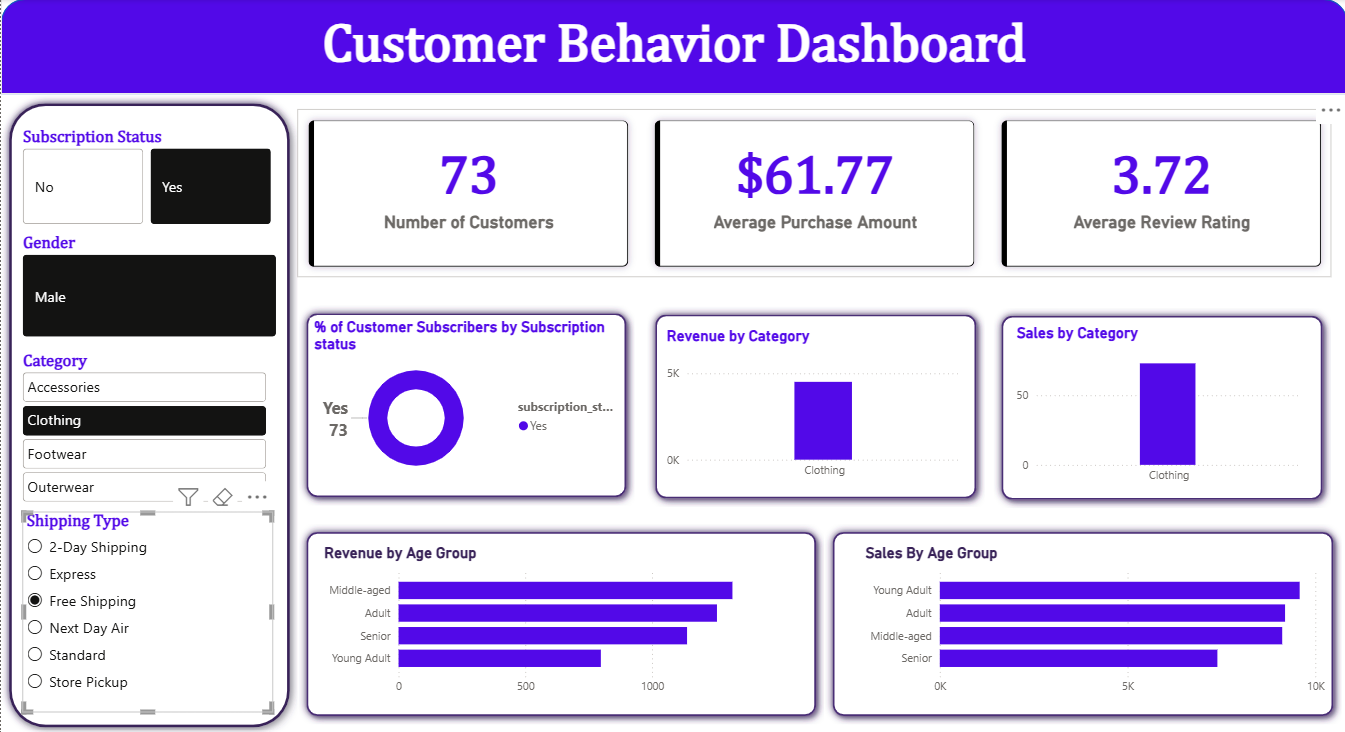

Layout of this report page (visuals, bound fields, positions):
{"tool":"powerbi","page":{"name":"Page 1","canvas":[1500,820],"ordinal":0},"visuals":[{"type":"cardVisual","fields":{"Data":["public customer.Number of Customers","public customer.Average Purchase Amount","public customer.Average Review Rating"]},"box":[313.6,106.1,1186.8,221.9],"z":0},{"type":"shape","box":[0,0,1500.3,106.1],"z":1000},{"type":"textbox","title":"Customer Behavior Dashboard","box":[0,17.7,1500.3,69.1],"z":2000},{"type":"shape","box":[331.4,341.4,374.3,222.9],"z":3000},{"type":"donutChart","title":"% of Customer Subscribers by Subscription  status","fields":{"Category":["public customer.subscription_status"],"Y":["CountNonNull(public customer.customer_id)"]},"box":[344.3,355.7,347.1,187.1],"z":4000},{"type":"shape","box":[0,106.9,330.7,713.3],"z":5000},{"type":"advancedSlicerVisual","title":"Subscription Status","fields":{"Values":["public customer.subscription_status"]},"box":[20,143.3,286.7,113.3],"z":6000},{"type":"advancedSlicerVisual","title":"Gender","fields":{"Values":["public customer.gender"]},"box":[20,261.4,292.9,120],"z":7000},{"type":"shape","box":[720,342.9,375.7,222.9],"z":8000},{"type":"shape","box":[1105.7,344.3,375.7,222.9],"z":9000},{"type":"clusteredColumnChart","title":"Sales by Category","fields":{"Category":["public customer.category"],"Y":["CountNonNull(public customer.customer_id)"]},"box":[1127.1,361.4,327.1,187.1],"z":10000},{"type":"clusteredColumnChart","title":"Revenue by Category","fields":{"Y":["Sum(public customer.purchase_amount)"],"Category":["public customer.category"]},"box":[737.1,364.3,338.6,178.6],"z":11000},{"type":"advancedSlicerVisual","title":"Category","fields":{"Values":["public customer.category"]},"box":[20,392.9,281.4,172.9],"z":12000},{"type":"listSlicer","title":"Shipping Type","fields":{"Values":["public customer.shipping_type"]},"box":[24.3,571.4,280,224.3],"z":13000},{"type":"shape","box":[331.4,584.3,585.7,222.9],"z":14000},{"type":"clusteredBarChart","title":"Revenue by Age Group","fields":{"Y":["Sum(public customer.purchase_amount)"],"Category":["public customer.age_group"]},"box":[355.7,607.1,501.4,177.1],"z":15000},{"type":"shape","box":[917.1,584.3,575.7,222.9],"z":16000},{"type":"clusteredBarChart","title":"Sales By Age Group","fields":{"Y":["Sum(public customer.customer_id)"],"Category":["public customer.age_group"]},"box":[958.6,607.1,521.4,177.1],"z":17000}]}

Visuals, with their boxes in screenshot pixels (x1, y1, x2, y2), scaled from the page's 1500x820 canvas onto the 1345x732 screenshot:
cardVisual - public customer.Number of Customers x public customer.Average Purchase Amount: crop(281, 95, 1344, 293)
shape: crop(0, 0, 1344, 95)
"Customer Behavior Dashboard" textbox: crop(0, 16, 1344, 77)
shape: crop(297, 305, 633, 504)
"% of Customer Subscribers by Subscription  status" donutChart: crop(309, 318, 620, 485)
shape: crop(0, 95, 297, 731)
"Subscription Status" advancedSlicerVisual: crop(18, 128, 275, 229)
"Gender" advancedSlicerVisual: crop(18, 233, 281, 340)
shape: crop(646, 306, 982, 505)
shape: crop(991, 307, 1328, 506)
"Sales by Category" clusteredColumnChart: crop(1011, 323, 1304, 490)
"Revenue by Category" clusteredColumnChart: crop(661, 325, 965, 485)
"Category" advancedSlicerVisual: crop(18, 351, 270, 505)
"Shipping Type" listSlicer: crop(22, 510, 273, 710)
shape: crop(297, 522, 822, 721)
"Revenue by Age Group" clusteredBarChart: crop(319, 542, 769, 700)
shape: crop(822, 522, 1339, 721)
"Sales By Age Group" clusteredBarChart: crop(860, 542, 1327, 700)
